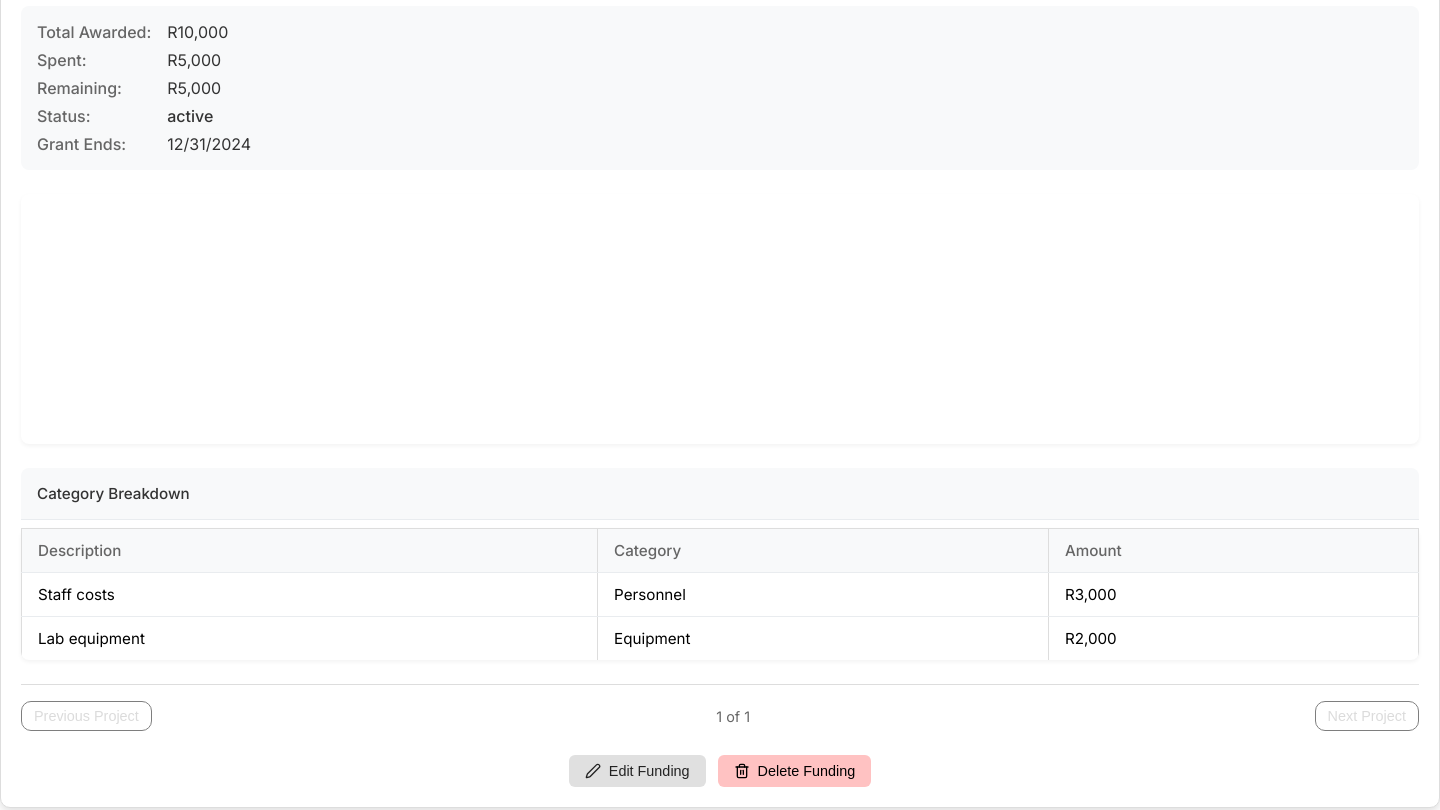
Test: FundingWidget › opens edit modal for initialized funding
(page scrolled)
Click the button with test id "edit-funding-button" at (637, 771), box [569,755,706,787]
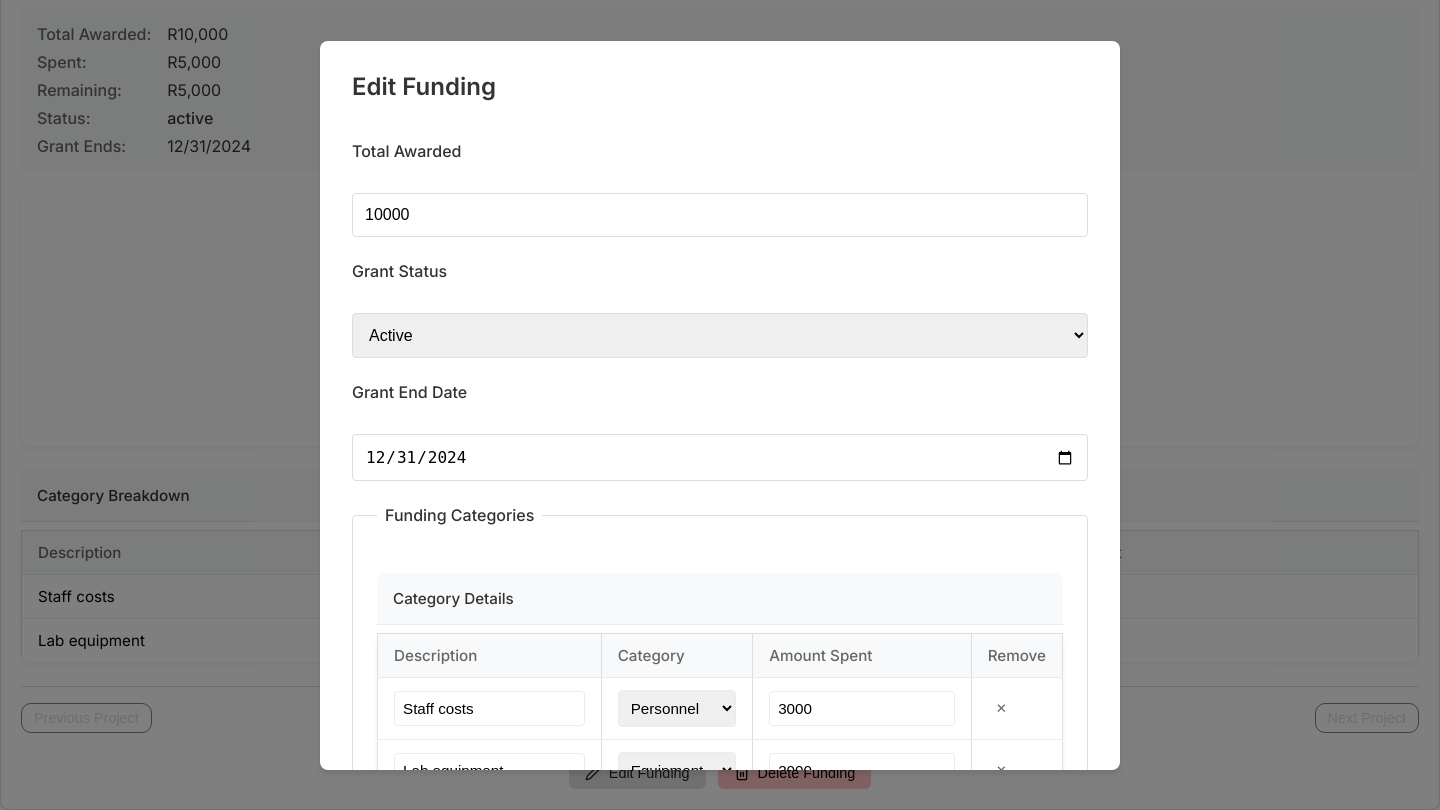
Result: the heading with test id "form-title" reads "Edit Funding" at [352,72,496,100]
